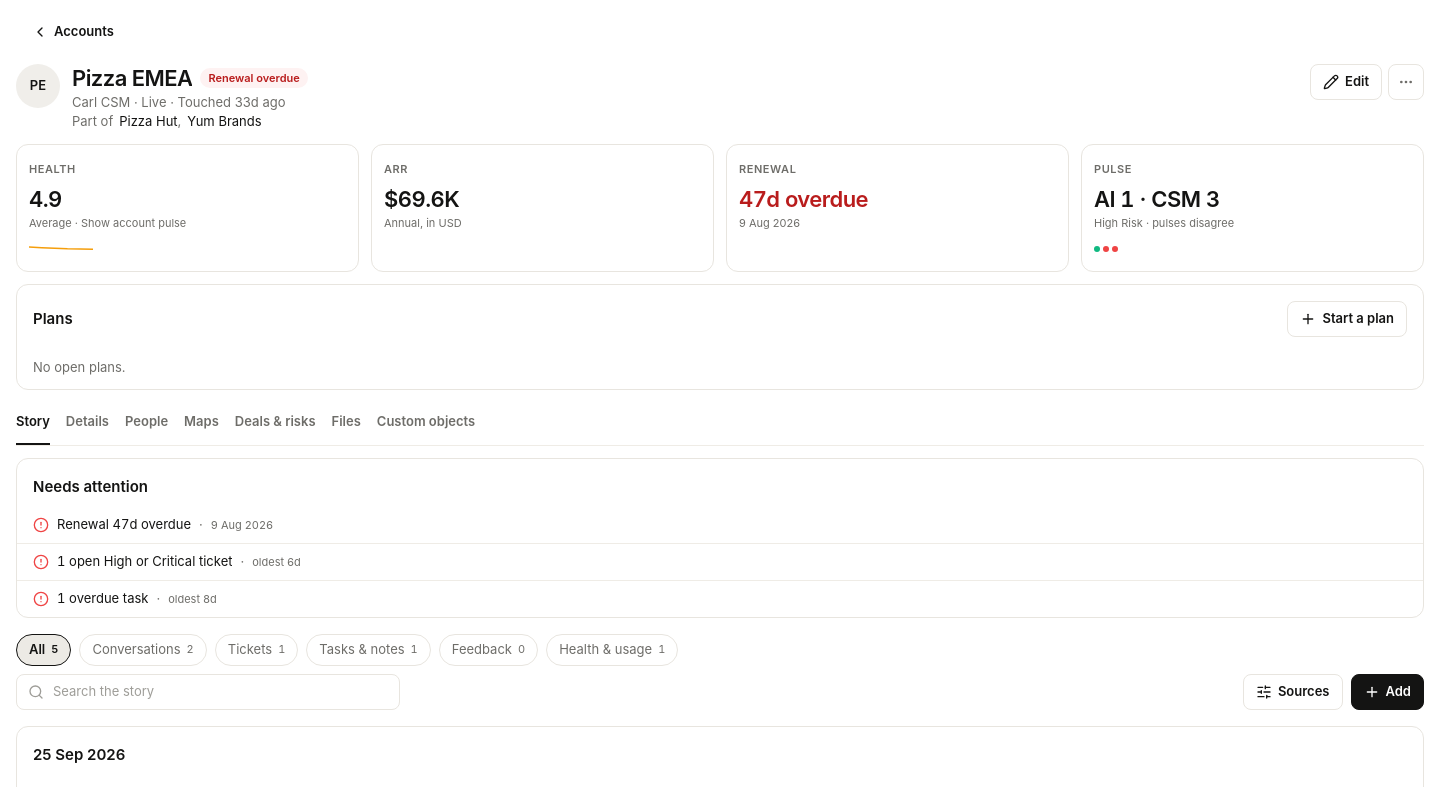
it: the account page (/accounts/:id) › Health opens the account pulse
Click the button with aria-label "Health 4.9, Average. Show the account pulse": (52,168) [17, 144, 358, 270]
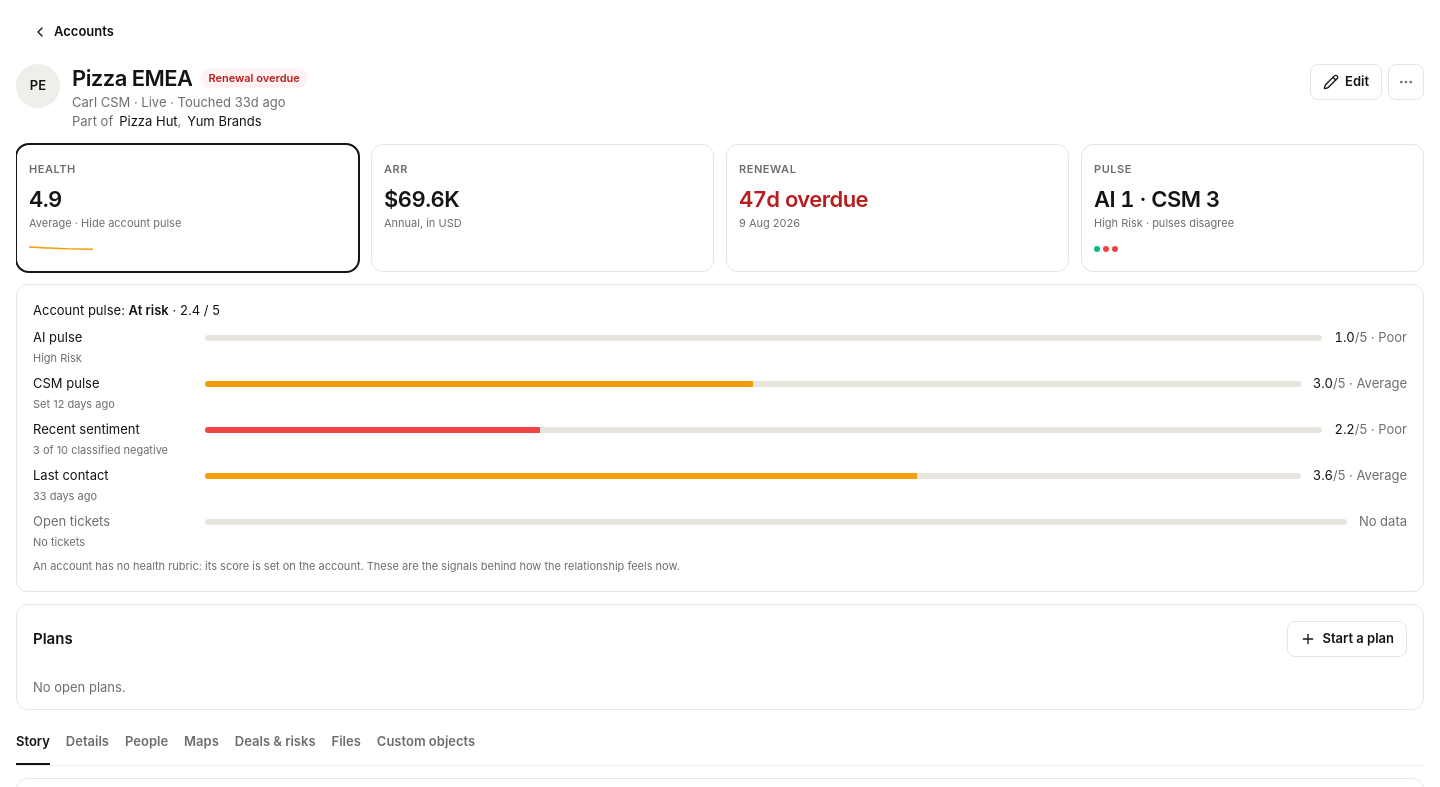
Result: the text "AI pulse" is shown at [33, 329, 82, 345]
Result: the element "Account pulse" shows "Account pulse: At risk · 2.4 / 5" at [16, 284, 1424, 592]
